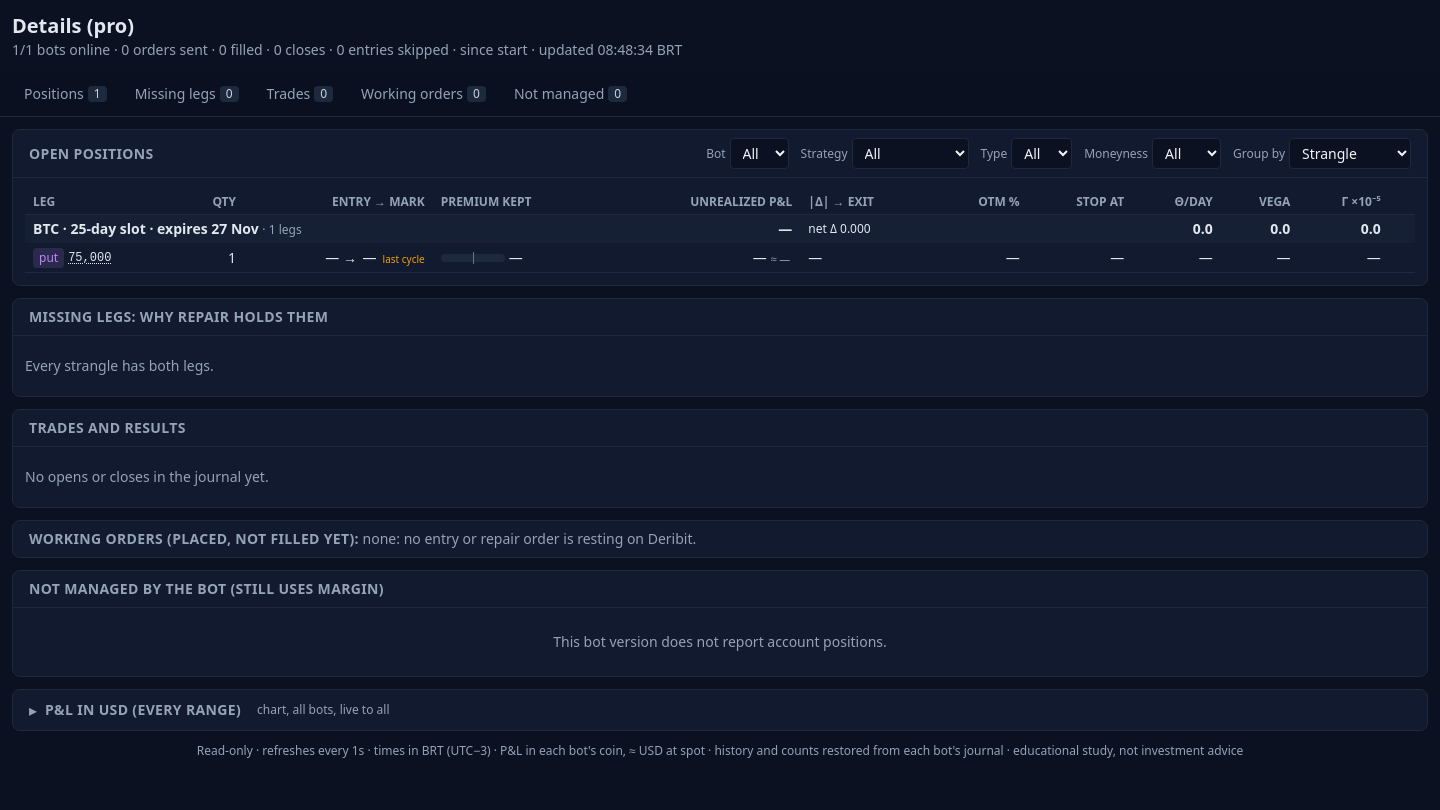
Test: Scenario: open from a leg › a strangle that is gone says so in the modal
Click the button "75,000": coordinates (90, 258) [68, 250, 111, 266]
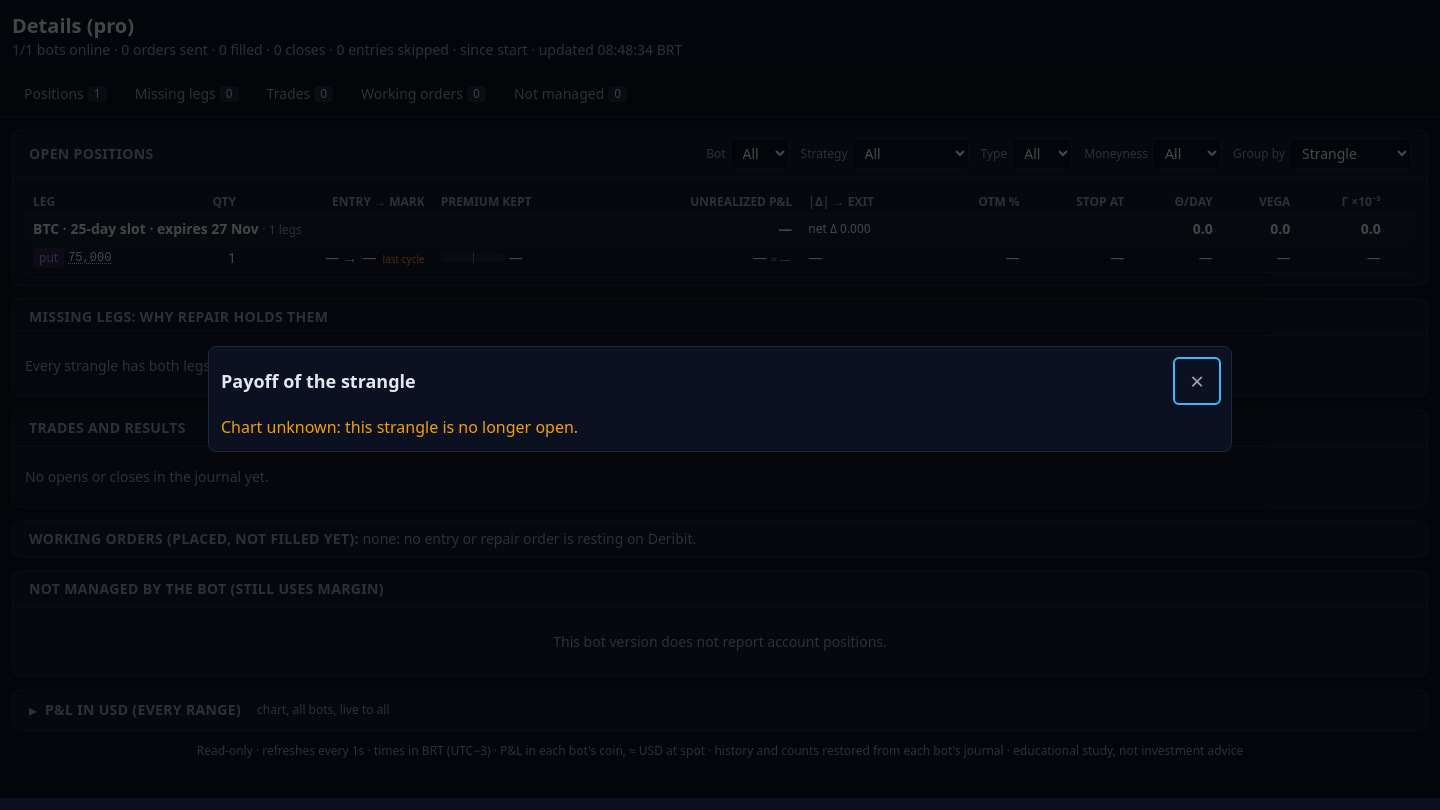
Now the message shows "Chart unknown: this strangle is no longer open", box [221, 416, 578, 438]
